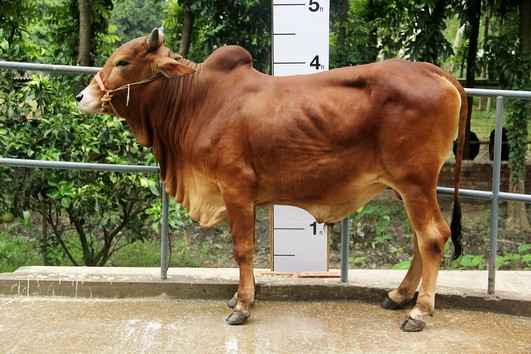cow: (71, 20, 468, 331)
